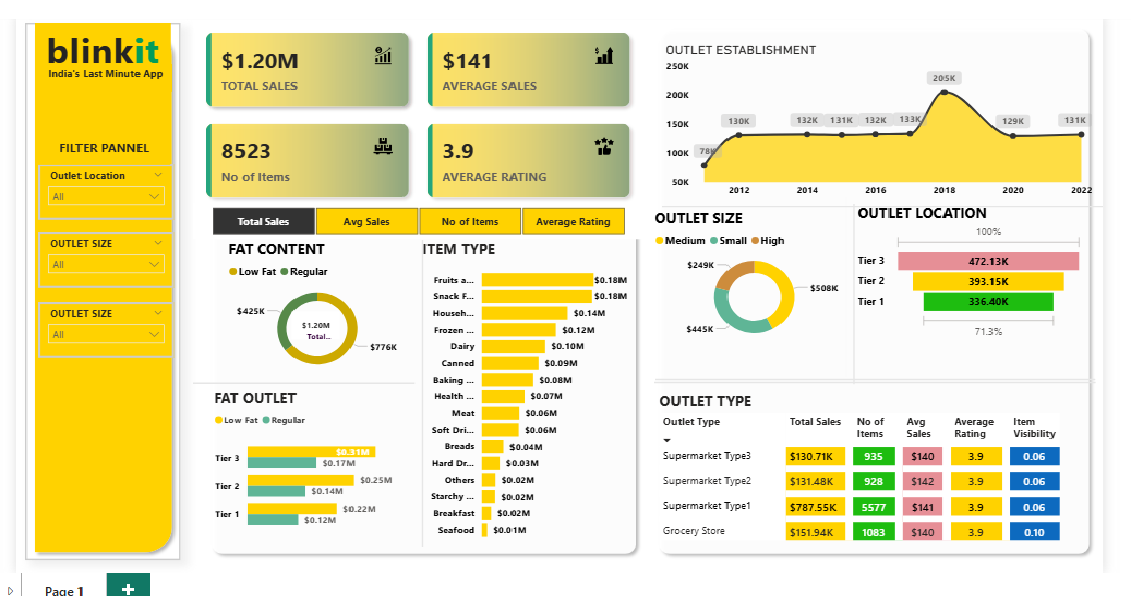

The page's visual inventory and layout, read from the dashboard file:
{"tool":"powerbi","page":{"name":"Page 1","canvas":[1400,800],"ordinal":0},"visuals":[{"type":"shape","box":[12,12,200,770],"z":0},{"type":"textbox","box":[22.9,11.4,175.7,78.6],"z":2000},{"type":"textbox","box":[28,70,172,40],"z":3000},{"type":"cardVisual","fields":{"Data":["BlinkIT Grocery Data.Total Sales","BlinkIT Grocery Data.Avg Sales","BlinkIT Grocery Data.No of Items","BlinkIT Grocery Data.Average Rating"]},"box":[226,8,580,270],"z":4000},{"type":"shape","box":[242,270,564,512],"z":5000},{"type":"donutChart","title":"FAT CONTENT","fields":{"Y":["BlinkIT Grocery Data.Total Sales"],"Category":["BlinkIT Grocery Data.Item Fat Content"]},"box":[268,322,238,200],"z":6000},{"type":"slicer","fields":{"Values":["Metrics.Metrics"]},"box":[226.7,268.9,580,52.2],"z":7000},{"type":"cardVisual","fields":{"Data":["BlinkIT Grocery Data.Total Sales"]},"box":[350,420,72,50],"z":8000},{"type":"clusteredBarChart","title":"FAT OUTLET","fields":{"Y":["BlinkIT Grocery Data.Total Sales"],"Category":["BlinkIT Grocery Data.Outlet Location Type"],"Series":["BlinkIT Grocery Data.Item Fat Content"]},"box":[250,536,268,218],"z":9000},{"type":"shape","box":[226.2,520,286.2,15],"z":10000},{"type":"shape","box":[1058.6,261.4,20,258.6],"z":11000},{"type":"barChart","title":"ITEM TYPE","fields":{"Y":["BlinkIT Grocery Data.Total Sales"],"Category":["BlinkIT Grocery Data.Item Type"]},"box":[518,322,274,440],"z":12000},{"type":"shape","box":[818,12,572,770],"z":13000},{"type":"lineChart","title":"OUTLET ESTABLISHMENT ","fields":{"Category":["BlinkIT Grocery Data.Outlet Establishment Year"],"Y":["Sum(BlinkIT Grocery Data.Sales)"]},"box":[831.2,40,558.8,228.8],"z":14000},{"type":"shape","box":[821.4,522.9,568.6,7.1],"z":15000},{"type":"donutChart","title":"OUTLET SIZE","fields":{"Y":["BlinkIT Grocery Data.Total Sales"],"Category":["BlinkIT Grocery Data.Outlet Size"]},"box":[817.1,278.6,265.7,198.6],"z":16000},{"type":"funnel","title":"OUTLET LOCATION","fields":{"Y":["Sum(BlinkIT Grocery Data.Sales)"],"Category":["BlinkIT Grocery Data.Outlet Location Type"]},"box":[1078.6,271.4,300,197.1],"z":17000},{"type":"pivotTable","title":"OUTLET TYPE","fields":{"Rows":["BlinkIT Grocery Data.Outlet Type"],"Values":["BlinkIT Grocery Data.Total Sales","BlinkIT Grocery Data.No of Items","BlinkIT Grocery Data.Avg Sales","BlinkIT Grocery Data.Average Rating","Avg(BlinkIT Grocery Data.Item Visibility)"]},"box":[822.9,520,555.7,262.9],"z":18000},{"type":"shape","box":[517.5,322.5,10,440],"z":19000},{"type":"shape","box":[1068.6,271.4,20,258.6],"z":20000},{"type":"shape","box":[822.9,514.3,567.1,15.7],"z":20001},{"type":"shape","box":[831.2,271.2,568.8,7.5],"z":20002},{"type":"slicer","title":"OUTLET LOCATION","fields":{"Values":["BlinkIT Grocery Data.Outlet Location Type"]},"box":[27.1,214.3,175.7,80],"z":20003},{"type":"slicer","title":"OUTLET LOCATION","fields":{"Values":["BlinkIT Grocery Data.Outlet Size"]},"box":[27.1,311.4,175.7,80],"z":20004},{"type":"slicer","title":"OUTLET LOCATION","fields":{"Values":["BlinkIT Grocery Data.Item Type"]},"box":[27.1,411.4,175.7,80],"z":20005},{"type":"textbox","box":[27.1,174.3,171.4,40],"z":20006}]}

Visuals, with their boxes on the page's 1400x800 design canvas (x1, y1, x2, y2). These are canvas units, not pixel positions in the 1137x596 screenshot, which may show the page scaled, cropped or inside an application window:
shape: x1=12 y1=12 x2=212 y2=782
textbox: x1=23 y1=11 x2=199 y2=90
textbox: x1=28 y1=70 x2=200 y2=110
cardVisual - BlinkIT Grocery Data.Total Sales x BlinkIT Grocery Data.Avg Sales: x1=226 y1=8 x2=806 y2=278
shape: x1=242 y1=270 x2=806 y2=782
"FAT CONTENT" donutChart: x1=268 y1=322 x2=506 y2=522
slicer - Metrics.Metrics: x1=227 y1=269 x2=807 y2=321
cardVisual - BlinkIT Grocery Data.Total Sales: x1=350 y1=420 x2=422 y2=470
"FAT OUTLET" clusteredBarChart: x1=250 y1=536 x2=518 y2=754
shape: x1=226 y1=520 x2=512 y2=535
shape: x1=1059 y1=261 x2=1079 y2=520
"ITEM TYPE" barChart: x1=518 y1=322 x2=792 y2=762
shape: x1=818 y1=12 x2=1390 y2=782
"OUTLET ESTABLISHMENT " lineChart: x1=831 y1=40 x2=1390 y2=269
shape: x1=821 y1=523 x2=1390 y2=530
"OUTLET SIZE" donutChart: x1=817 y1=279 x2=1083 y2=477
"OUTLET LOCATION" funnel: x1=1079 y1=271 x2=1379 y2=468
"OUTLET TYPE" pivotTable: x1=823 y1=520 x2=1379 y2=783
shape: x1=518 y1=322 x2=528 y2=762
shape: x1=1069 y1=271 x2=1089 y2=530
shape: x1=823 y1=514 x2=1390 y2=530
shape: x1=831 y1=271 x2=1400 y2=279
"OUTLET LOCATION" slicer: x1=27 y1=214 x2=203 y2=294
"OUTLET LOCATION" slicer: x1=27 y1=311 x2=203 y2=391
"OUTLET LOCATION" slicer: x1=27 y1=411 x2=203 y2=491
textbox: x1=27 y1=174 x2=198 y2=214
